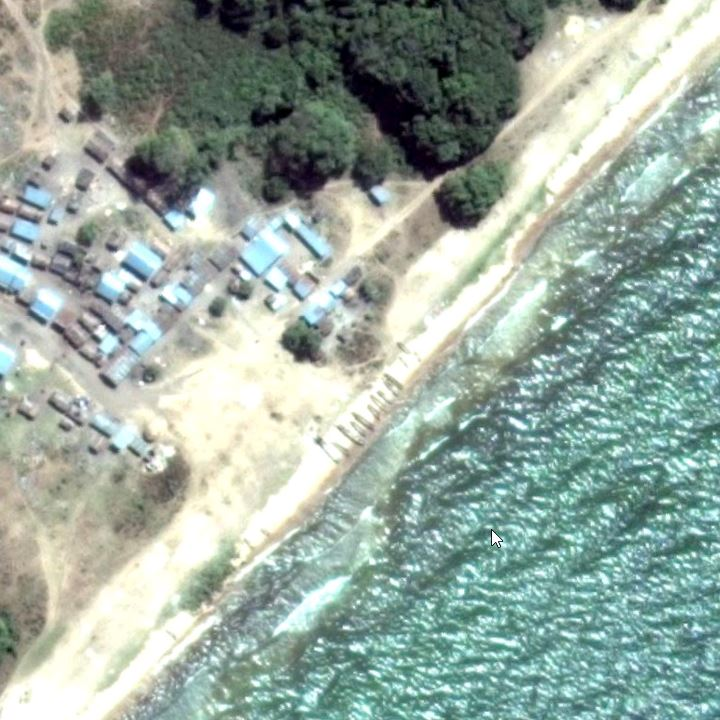boat: (312, 433, 345, 468), (333, 422, 370, 449), (348, 411, 377, 432), (330, 439, 355, 460), (382, 370, 407, 390), (349, 419, 372, 438), (382, 378, 404, 397), (368, 395, 391, 412), (395, 354, 414, 371), (364, 404, 383, 421), (395, 341, 414, 357), (376, 389, 396, 404)
